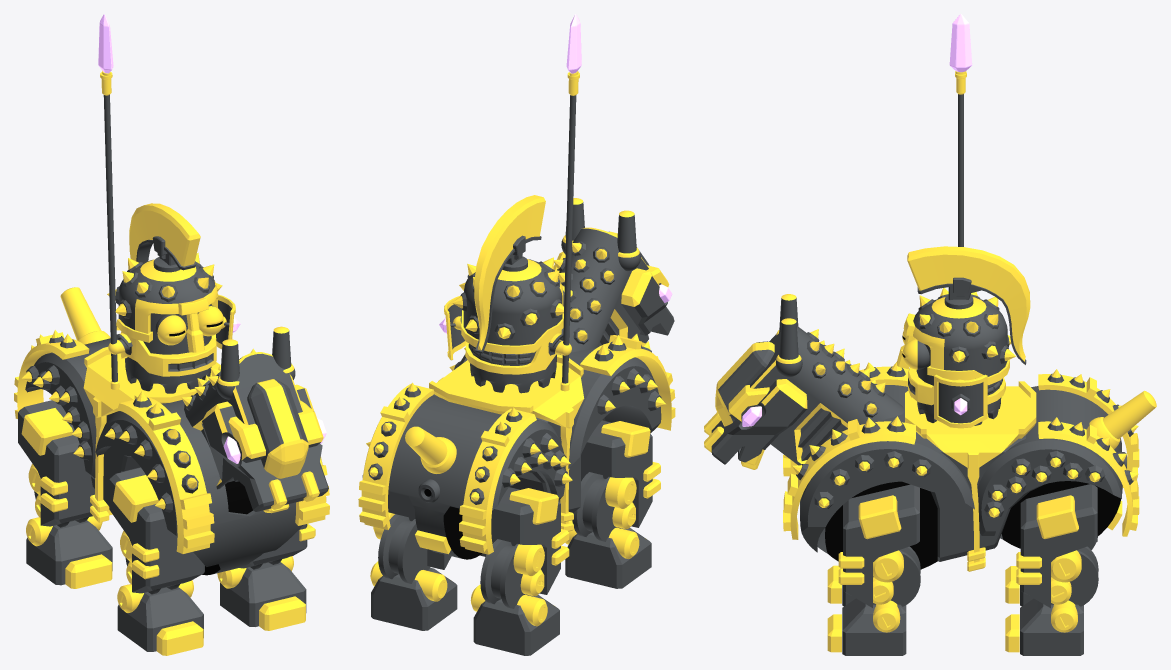
The model's file is religious_mount_soldat.fbx.
3 renders of one model, left to right at view 1: azimuth 30°, elevation 25°; view 2: azimuth 150°, elevation 25°; view 3: azimuth 270°, elevation 25°, orthographic. The views are drawn at different scales.
Visible parts, largest first — view 1: pCube64 (×3), legs_base2, deets_head, shoulder_pad2, helmet, leg_front2, head, leg_rear2, pCube66 (×3), saddle, mowawk, neck (+25 smaller); view 2: legs_base2, pCube64 (×3), pCylinder8 (×3), saddle, helmet, neck, mowawk, legs_base1, leg_rear_pad2, leg_rear_pad1, leg_front2, leg_rear2 (+26 smaller); view 3: legs_base1, neck, saddle, mowawk, helmet, pCube64 (×2), leg_rear1, leg_front1, mount, head, deets_head, shoulder_pad1 (+24 smaller).
Part boxes in pixels (<box>): pCube64 (×3): <box>26,520,306,651</box>; legs_base2: <box>25,339,249,575</box>; deets_head: <box>228,379,323,509</box>; shoulder_pad2: <box>117,397,214,553</box>; helmet: <box>116,257,217,342</box>; leg_front2: <box>109,467,204,593</box>; head: <box>202,384,328,511</box>; leg_rear2: <box>18,400,94,526</box>; pCube66 (×3): <box>65,554,305,655</box>; saddle: <box>83,347,220,515</box>; mowawk: <box>129,203,200,270</box>; neck: <box>184,352,303,489</box>; legs_base2: <box>429,348,661,559</box>; pCube64 (×3): <box>371,528,651,655</box>; pCylinder8 (×3): <box>378,472,620,608</box>; saddle: <box>429,354,584,523</box>; helmet: <box>461,256,563,354</box>; neck: <box>557,227,648,354</box>; mowawk: <box>474,195,545,353</box>; legs_base1: <box>388,354,473,555</box>; leg_rear_pad2: <box>459,408,536,554</box>; leg_rear_pad1: <box>358,384,433,529</box>; leg_front2: <box>581,420,652,527</box>; leg_rear2: <box>491,487,560,594</box>; legs_base1: <box>800,411,1122,569</box>; neck: <box>750,326,904,465</box>; saddle: <box>905,381,1036,562</box>; mowawk: <box>907,246,1030,364</box>; helmet: <box>903,295,1009,384</box>; pCube64 (×2): <box>842,598,1083,655</box>; leg_rear1: <box>1020,484,1097,608</box>; leg_front1: <box>843,484,919,607</box>; mount: <box>903,435,1042,561</box>; head: <box>711,379,807,464</box>; deets_head: <box>704,341,774,452</box>; shoulder_pad1: <box>783,419,915,539</box>.
Bounding box in the file's own units: 4.25 × 13.89 × 9.92.
